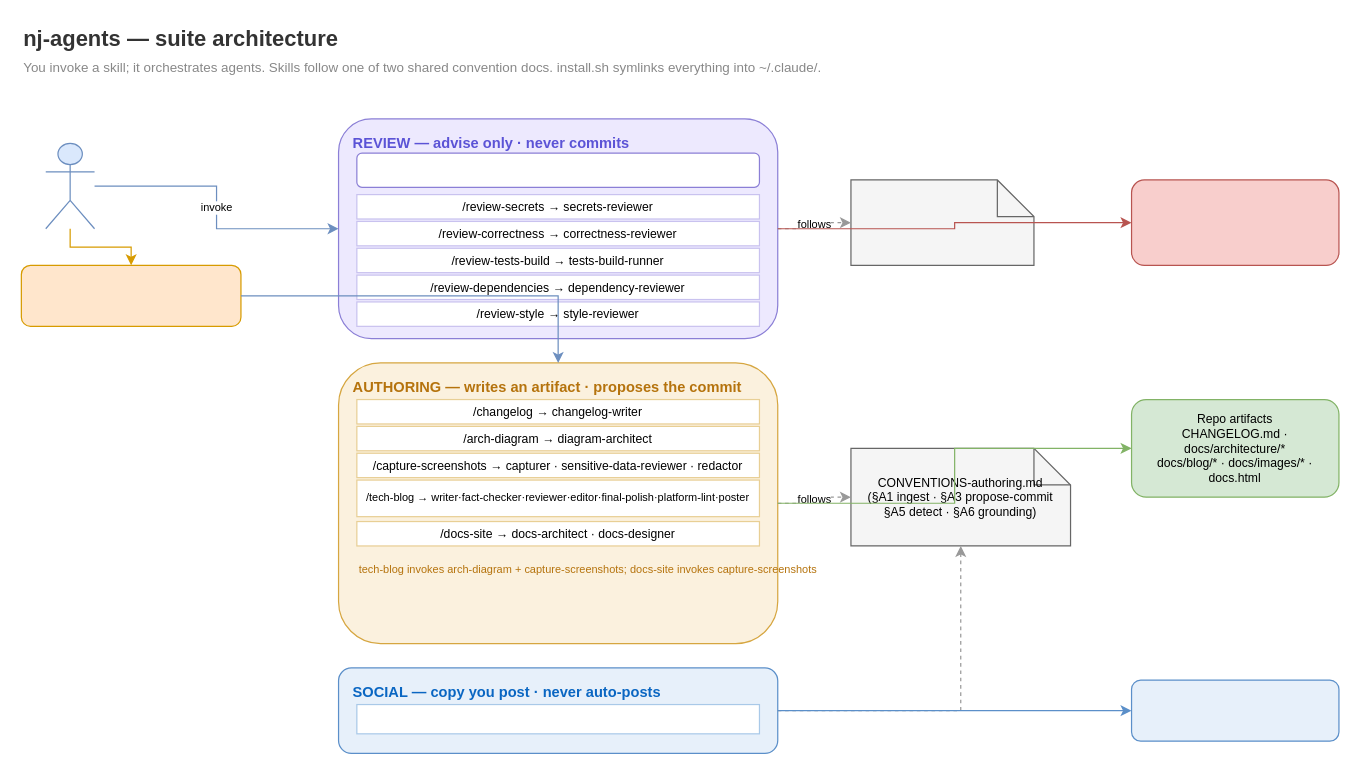
Some shapes in this 1360 by 775 pixel diagram are drawn without their labels. Here are the shapes that lost their labels. From the top down, the centre of each, then its label:
the point at 70,185: Developer (any git repo)
the point at 557,169: /pre-push-review (umbrella)
the point at 942,222: CONVENTIONS.md (review class rules)
the point at 1234,222: Review verdict PASS / WARN / BLOCK (+ report, exit code)
the point at 130,295: install.sh symlinks → ~/.claude/{skills,agents}
the point at 557,718: /social-post → social-post agent
the point at 1234,710: Paste-ready copy (LinkedIn / X)
